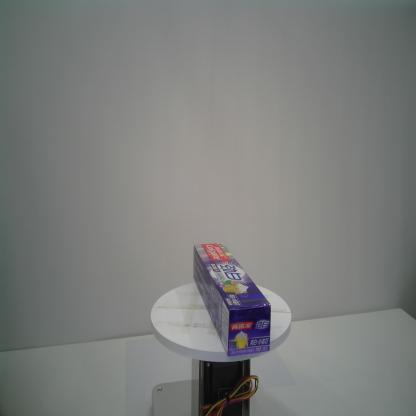Personal Hygiene: (192, 240, 272, 356)
